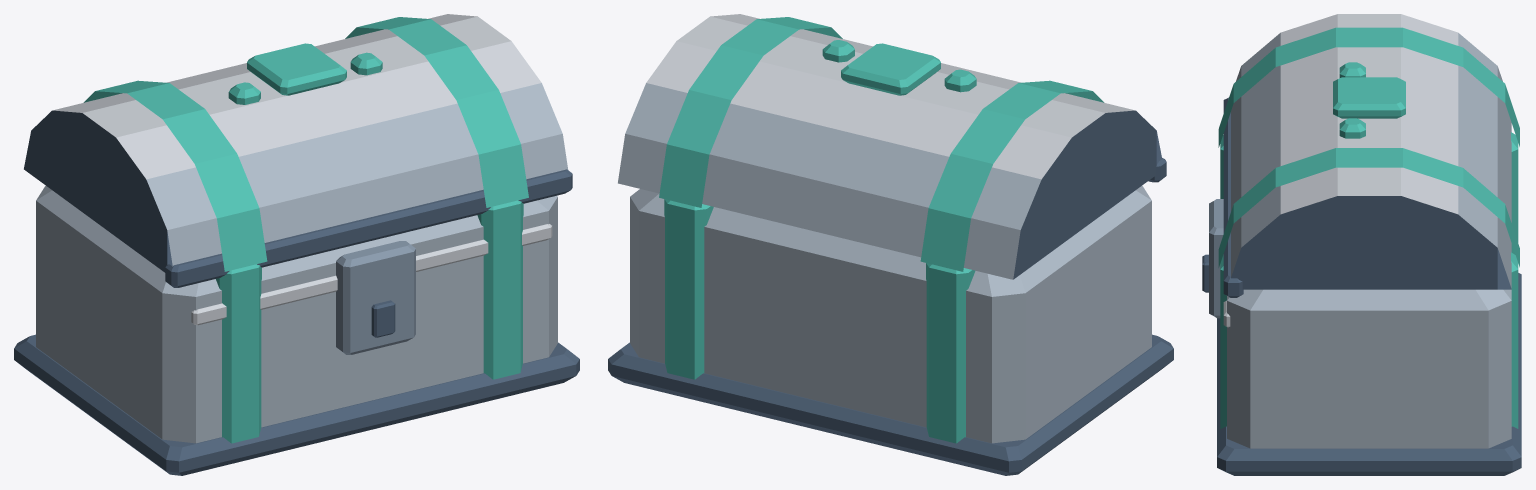
File: chest_silver.glb
The picture shows the model from 3 angles, left to right: view 1: azimuth 30°, elevation 25°; view 2: azimuth 150°, elevation 25°; view 3: azimuth 270°, elevation 25°; orthographic projection. The views are drawn at different scales.
Parts seen in each view (by area): view 1: Capac, Corp, Lacat; view 2: Corp, Capac; view 3: Capac, Corp, Lacat.
Boxes of the visible parts, x1,y1,x2,y2 form: Capac: (24, 14, 572, 287); Corp: (14, 186, 579, 475); Lacat: (336, 241, 415, 354); Corp: (608, 186, 1173, 475); Capac: (618, 14, 1166, 279); Capac: (1218, 14, 1519, 297); Corp: (1217, 132, 1521, 475); Lacat: (1202, 199, 1223, 318).
Bounding box in the file's own units: 1.36 × 0.98 × 0.965.
